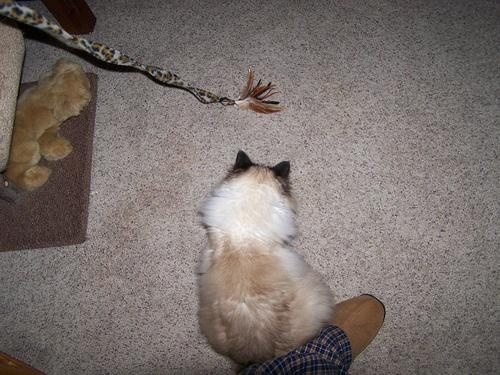cat: (196, 150, 338, 365)
